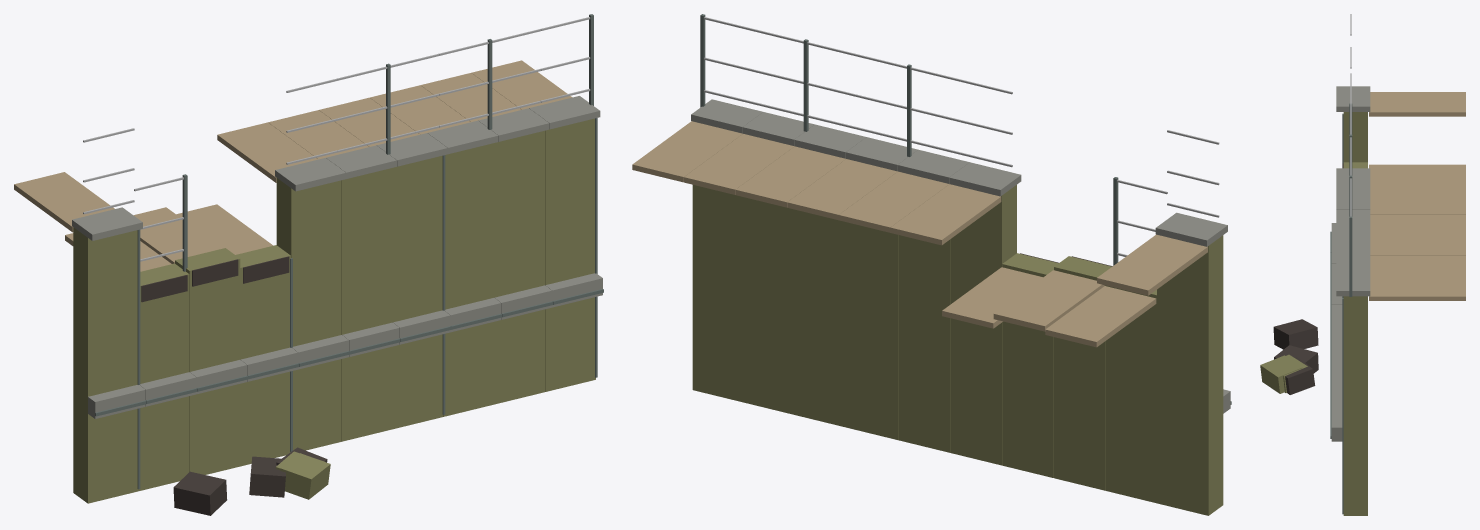
File: SM_MuroRampa_v0_Alto_e2_MuyDanado_LOD0.fbx
3 renders of one model, left to right at view 1: azimuth 30°, elevation 25°; view 2: azimuth 150°, elevation 25°; view 3: azimuth 270°, elevation 25°, orthographic. The views are drawn at different scales.
Parts seen in each view (by area): view 1: SM_muro_rampa_v2_LOD0; view 2: SM_muro_rampa_v2_LOD0; view 3: SM_muro_rampa_v2_LOD0.
Part boxes in pixels (bbox=[...]): SM_muro_rampa_v2_LOD0: bbox=[14, 14, 603, 515]; SM_muro_rampa_v2_LOD0: bbox=[632, 14, 1231, 515]; SM_muro_rampa_v2_LOD0: bbox=[1260, 14, 1465, 515].
Size of the model in its own units: 10.03 by 6.84 by 4.24.
